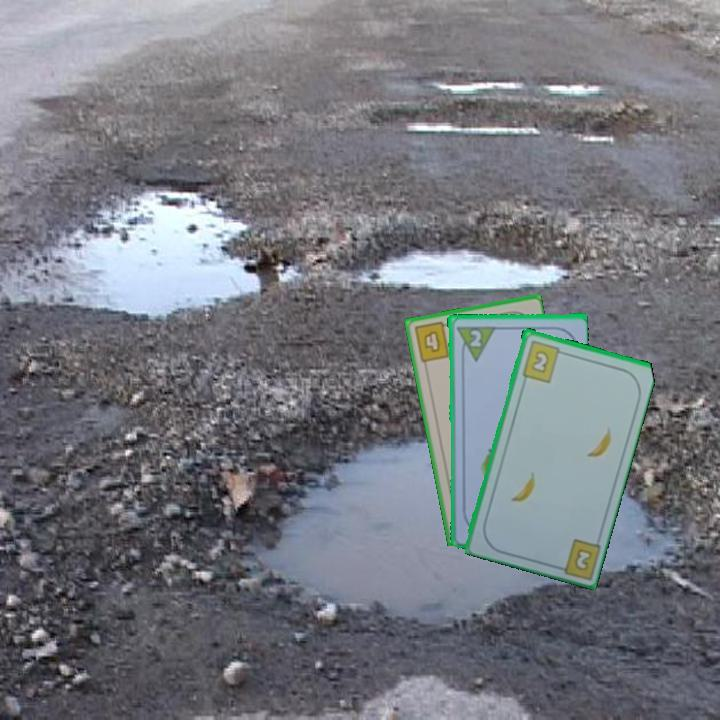2b: (518, 337, 568, 385), (572, 544, 595, 571)
2p: (452, 322, 496, 363)
4b: (410, 318, 454, 365)
